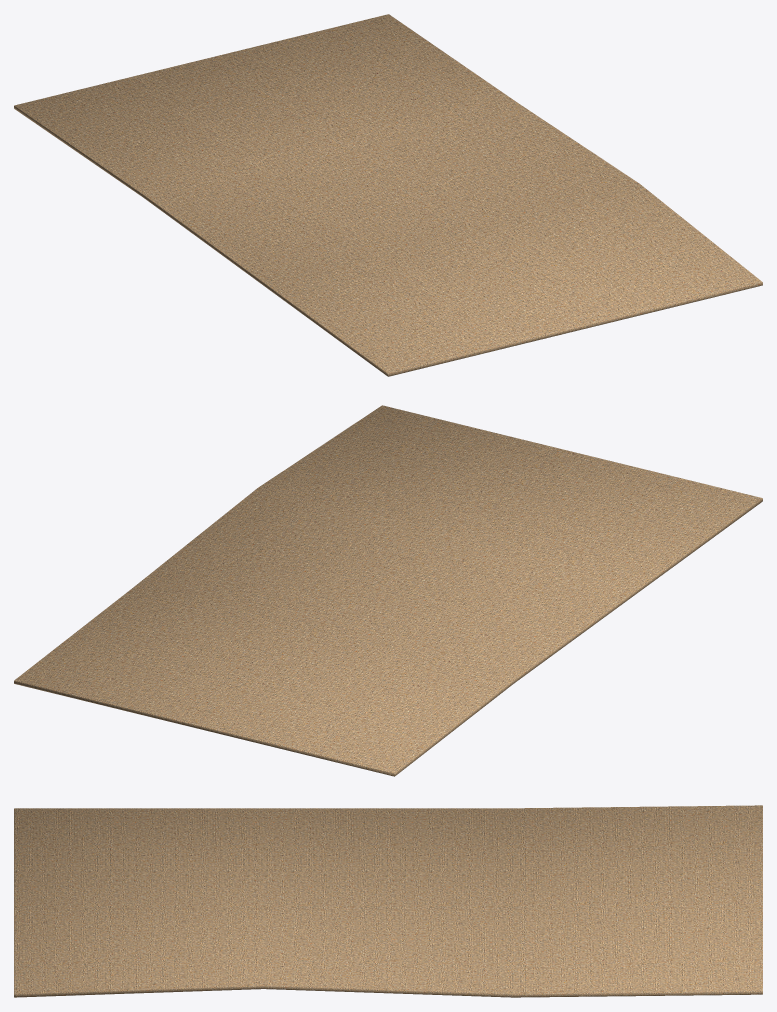
The model's file is carpet_02.fbx.
3 views of the same model, one above another, from view 1: azimuth 30°, elevation 25°; view 2: azimuth 150°, elevation 25°; view 3: azimuth 270°, elevation 25° (orthographic).
Parts seen in each view (by area): view 1: carpet_02; view 2: carpet_02; view 3: carpet_02.
Part boxes in pixels (x1,y1,x2,y2): carpet_02: (14, 14, 762, 376); carpet_02: (14, 405, 762, 776); carpet_02: (14, 805, 762, 997).
Bounding box in the file's own units: 4.84 × 0.144 × 8.1.
